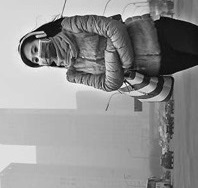person: (16, 16, 198, 101)
